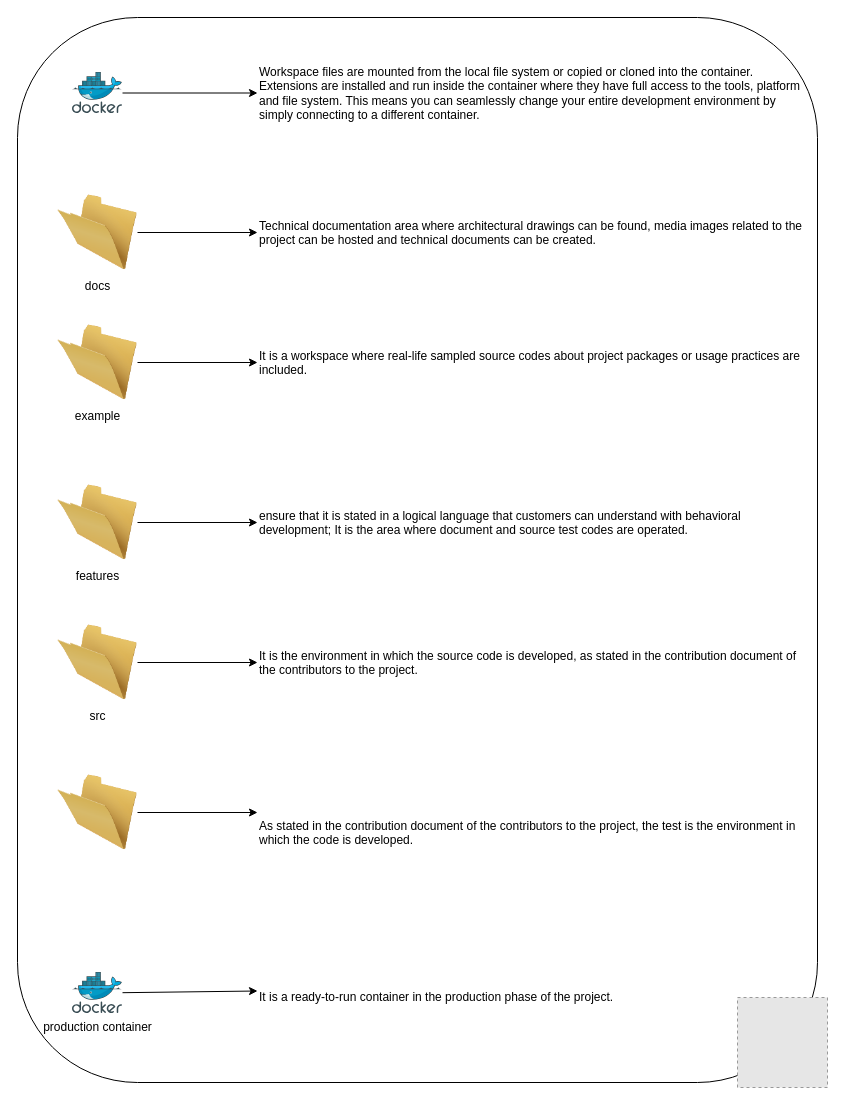
Some shapes in this 845 by 1105 pixel diagram are drawn without their labels. Grey dashed boxes stand in for pictures. The box of each missing label's shape, as (x1, y1, x2, y2) in pixels:
development container: (72, 72, 122, 113)
tests: (57, 772, 137, 852)
